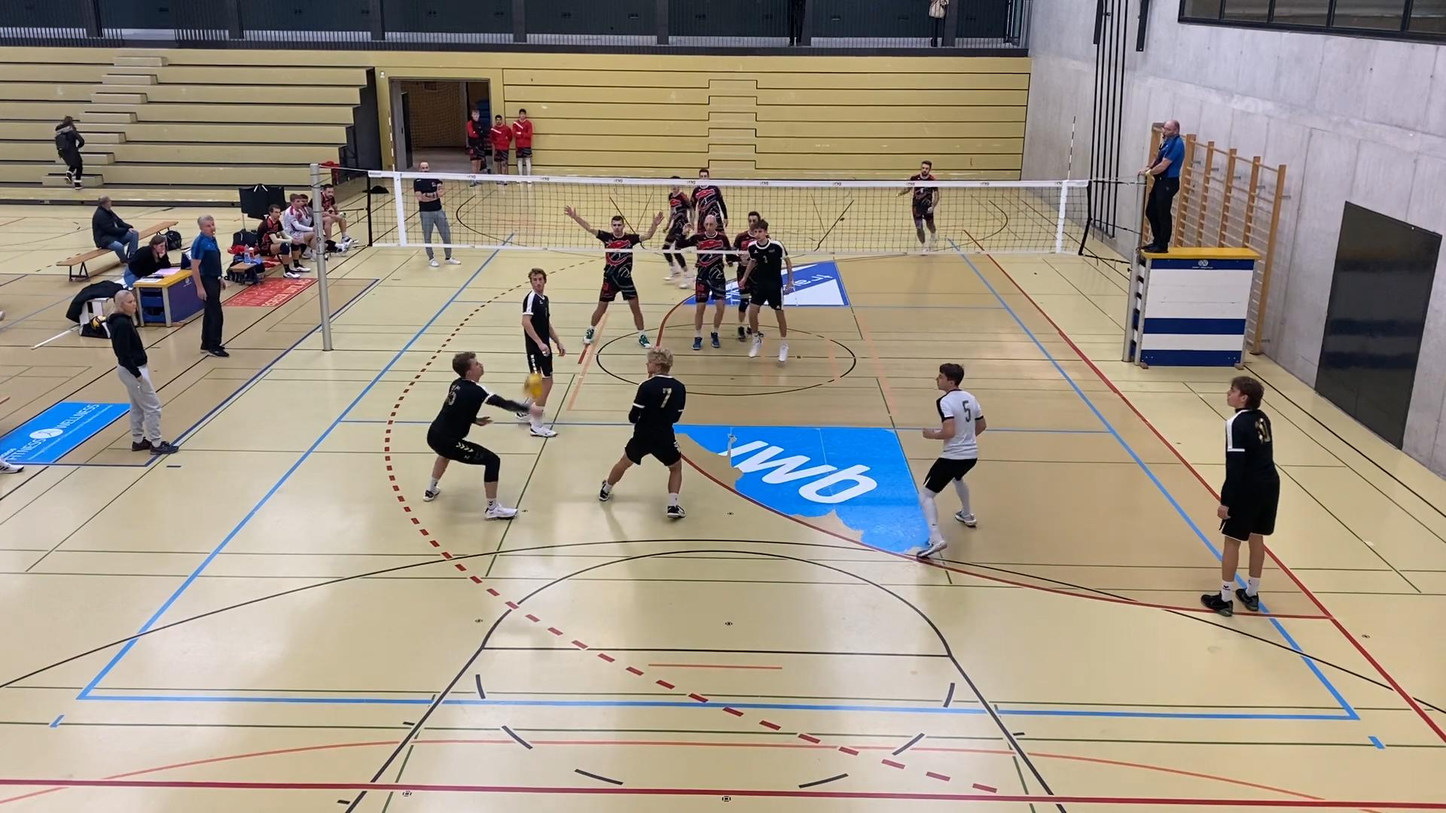Player: (1201, 376, 1280, 616), (599, 348, 685, 518), (565, 206, 663, 348), (917, 363, 986, 556), (740, 219, 792, 361), (683, 215, 731, 350), (521, 268, 565, 407), (730, 212, 761, 341), (899, 160, 939, 249), (663, 185, 691, 283), (691, 169, 727, 231)
Receive: (420, 348, 547, 520)
ball: (521, 368, 553, 400)
